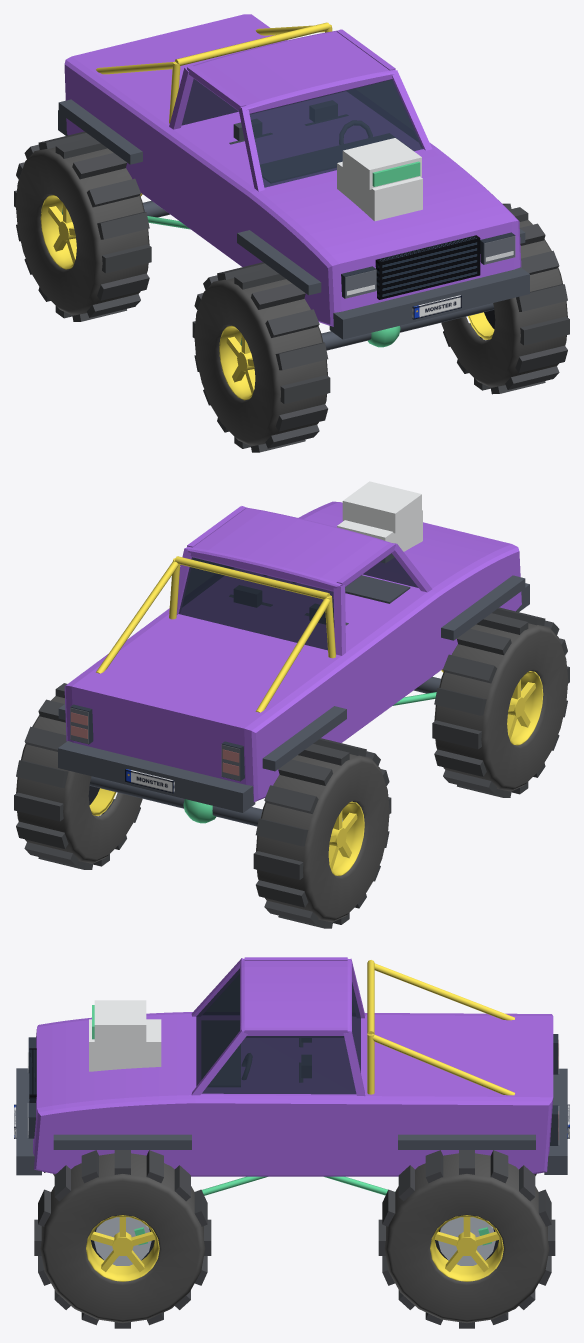
Rendered from car_monster.glb.
3 views of the same model, one above another, from view 1: azimuth 30°, elevation 25°; view 2: azimuth 150°, elevation 25°; view 3: azimuth 270°, elevation 25° (orthographic). The views are drawn at different scales.
Visible parts, largest first — view 1: MonsterBody, wheel_FR_spin, wheel_RR_spin, chassis, CabinGreenhouse, wheel_FL_spin, SculptedRoof, TurboBlowerEngine, InteriorCabin, headlight_L_housing, headlight_R_housing; view 2: MonsterBody, wheel_RR_spin, wheel_FR_spin, chassis, wheel_RL_spin, CabinGreenhouse, SculptedRoof, TurboBlowerEngine, InteriorCabin, taillight_R_housing, taillight_L_housing; view 3: MonsterBody, wheel_RL_spin, wheel_FL_spin, CabinGreenhouse, chassis, SculptedRoof, TurboBlowerEngine, InteriorCabin.
Part boxes in pixels (box(x1,y1,x2,y2)): MonsterBody: box(64, 14, 521, 326); wheel_FR_spin: box(192, 262, 330, 452); wheel_RR_spin: box(14, 131, 151, 321); chassis: box(58, 22, 529, 350); CabinGreenhouse: box(169, 29, 432, 191); wheel_FL_spin: box(441, 203, 569, 394); SculptedRoof: box(186, 30, 395, 113); TurboBlowerEngine: box(337, 138, 422, 221); InteriorCabin: box(229, 100, 394, 182); headlight_L_housing: box(480, 232, 515, 264); headlight_R_housing: box(341, 266, 376, 298); MonsterBody: box(64, 501, 521, 802); wheel_RR_spin: box(253, 738, 391, 928); wheel_FR_spin: box(432, 607, 569, 797); chassis: box(58, 556, 529, 826); wheel_RL_spin: box(14, 683, 142, 869); CabinGreenhouse: box(176, 506, 432, 655); SculptedRoof: box(186, 507, 391, 591); TurboBlowerEngine: box(337, 481, 422, 562); InteriorCabin: box(229, 575, 410, 625); taillight_R_housing: box(221, 741, 244, 781); taillight_L_housing: box(70, 704, 93, 744); MonsterBody: box(33, 1012, 553, 1176); wheel_RL_spin: box(378, 1150, 555, 1328); wheel_FL_spin: box(34, 1150, 211, 1328); CabinGreenhouse: box(191, 957, 365, 1096); chassis: box(14, 960, 569, 1195); SculptedRoof: box(240, 958, 351, 1037); TurboBlowerEngine: box(89, 1000, 161, 1071); InteriorCabin: box(202, 1021, 311, 1086).
Size of the model in its own units: 2.8 by 2.54 by 4.75.
Materials: 18 (2 with a texture image).
